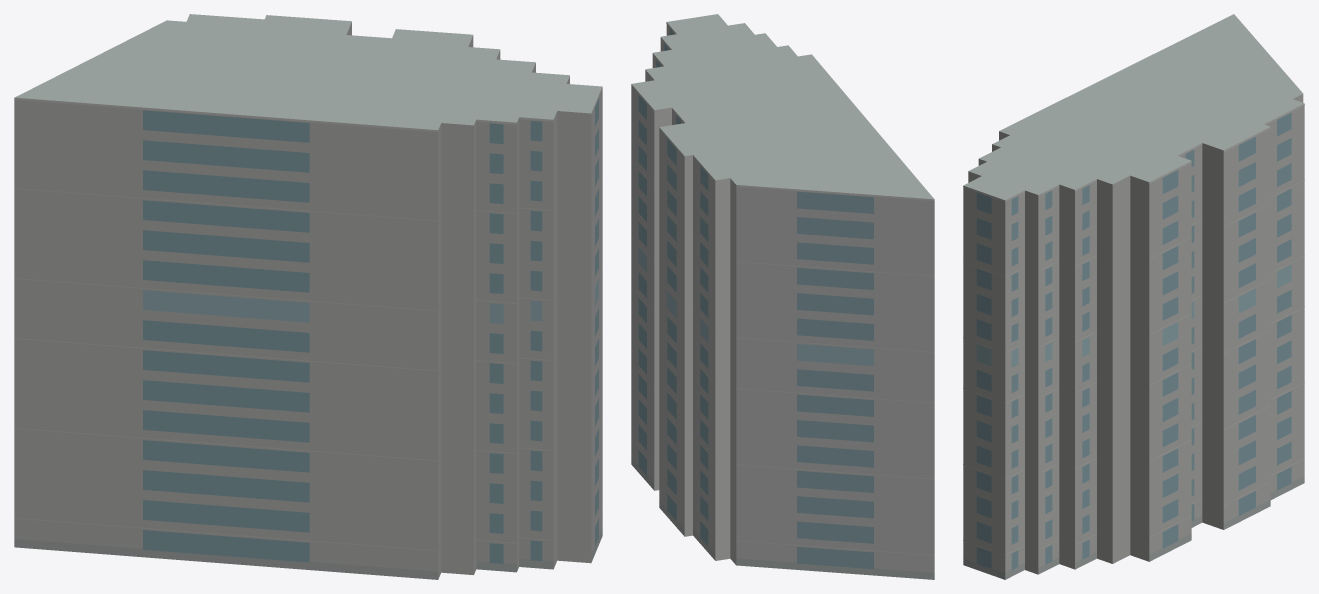
Rendered from residential-c533f92c-966c-49ef-b437-02ce4c8fde89.glb.
The picture shows the model from 3 angles, left to right: view 1: azimuth 30°, elevation 25°; view 2: azimuth 150°, elevation 25°; view 3: azimuth 270°, elevation 25°; orthographic projection. The views are drawn at different scales.
Visible parts, largest first — view 1: residential-c533f92c-966c-49ef-b437-02ce4c8fde89.tmp; view 2: residential-c533f92c-966c-49ef-b437-02ce4c8fde89.tmp; view 3: residential-c533f92c-966c-49ef-b437-02ce4c8fde89.tmp.
Boxes of the visible parts, x1,y1,x2,y2 form: residential-c533f92c-966c-49ef-b437-02ce4c8fde89.tmp: [14, 14, 602, 579]; residential-c533f92c-966c-49ef-b437-02ce4c8fde89.tmp: [631, 14, 934, 579]; residential-c533f92c-966c-49ef-b437-02ce4c8fde89.tmp: [963, 14, 1304, 579].
Size of the model in its own units: 54.76 by 52 by 42.42.
